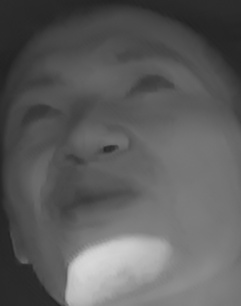eye: (119, 66, 177, 102), (15, 100, 65, 129)
mouth: (42, 169, 145, 227)
